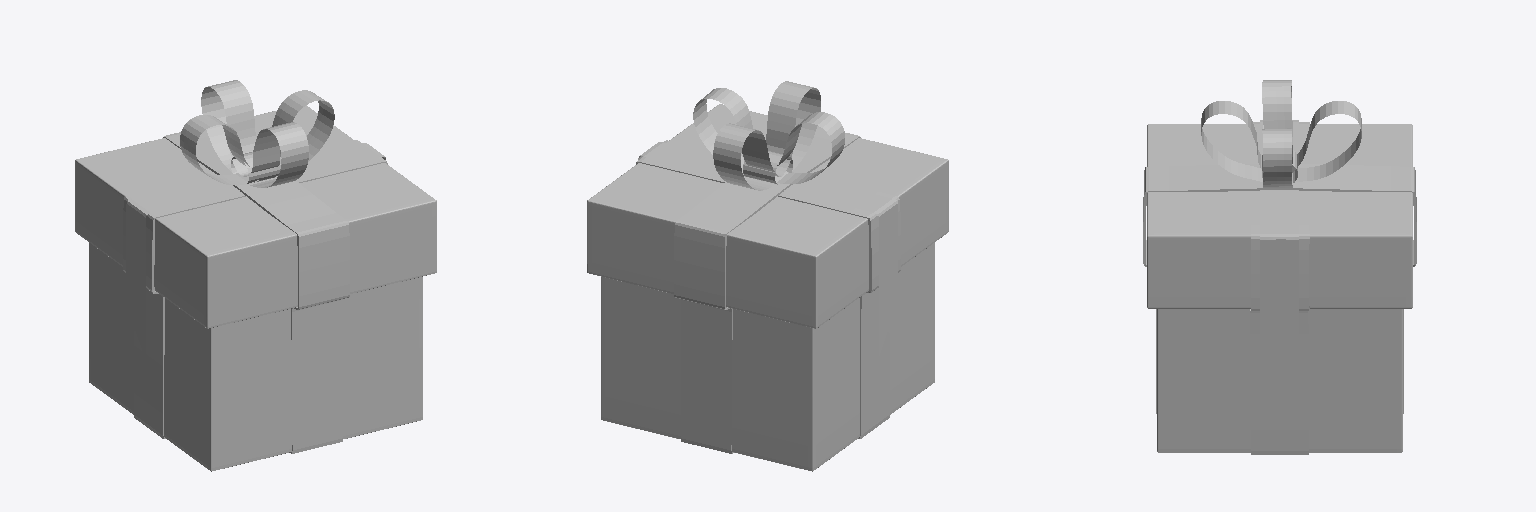
Rendered from gift_2.obj.
3 views of the same model, side by side, from view 1: azimuth 30°, elevation 25°; view 2: azimuth 150°, elevation 25°; view 3: azimuth 270°, elevation 25° (orthographic).
Visible parts, largest first — view 1: box_Cube.004, ribbon_3_Plane.001, ribbon_2_Plane, ribbon_4_Vert.001, green_ribbon_Plane.002, ribbon_5_Vert; view 2: box_Cube.004, ribbon_3_Plane.001, ribbon_2_Plane, ribbon_4_Vert.001, green_ribbon_Plane.002, ribbon_5_Vert, ribbon_1_Circle.001; view 3: box_Cube.004, ribbon_2_Plane, green_ribbon_Plane.002, ribbon_3_Plane.001, ribbon_4_Vert.001, ribbon_5_Vert.
Part boxes in pixels (bbox=[...]): box_Cube.004: bbox=[75, 105, 436, 471]; ribbon_3_Plane.001: bbox=[163, 130, 349, 453]; ribbon_2_Plane: bbox=[123, 140, 387, 438]; ribbon_4_Vert.001: bbox=[201, 80, 308, 187]; green_ribbon_Plane.002: bbox=[126, 143, 385, 355]; ribbon_5_Vert: bbox=[180, 90, 334, 185]; box_Cube.004: bbox=[587, 104, 948, 471]; ribbon_3_Plane.001: bbox=[674, 126, 860, 453]; ribbon_2_Plane: bbox=[636, 140, 900, 438]; ribbon_4_Vert.001: bbox=[713, 81, 820, 190]; green_ribbon_Plane.002: bbox=[638, 142, 897, 355]; ribbon_5_Vert: bbox=[693, 88, 844, 183]; ribbon_1_Circle.001: bbox=[743, 151, 792, 184]; box_Cube.004: bbox=[1147, 124, 1412, 452]; ribbon_2_Plane: bbox=[1250, 122, 1309, 454]; green_ribbon_Plane.002: bbox=[1260, 120, 1298, 378]; ribbon_3_Plane.001: bbox=[1143, 164, 1416, 413]; ribbon_4_Vert.001: bbox=[1201, 101, 1361, 181]; ribbon_5_Vert: bbox=[1262, 80, 1292, 187].
Bounding box in the file's own units: 2.26 × 2.67 × 2.23.